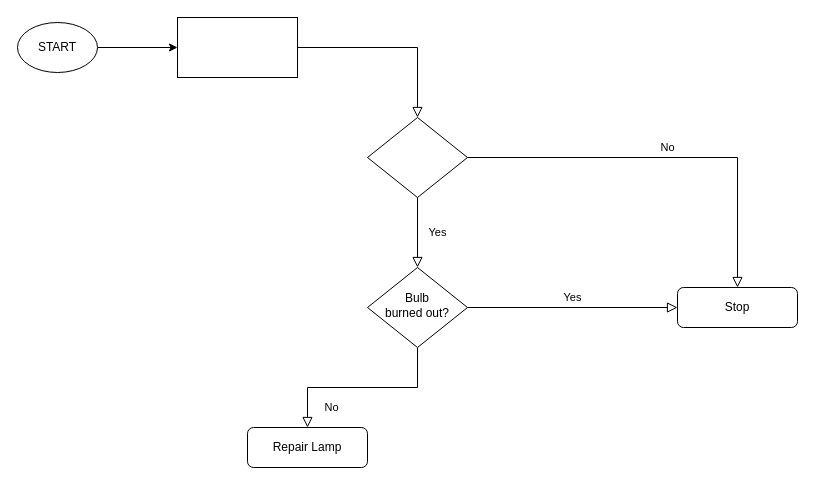
This 815x485 diagram has some shape labels left out. The centre of each missing label's shape, as x and y in pixels:
"Employee Submission" goes at (x=237, y=47).
"Lamp plugged in?" goes at (x=417, y=157).
